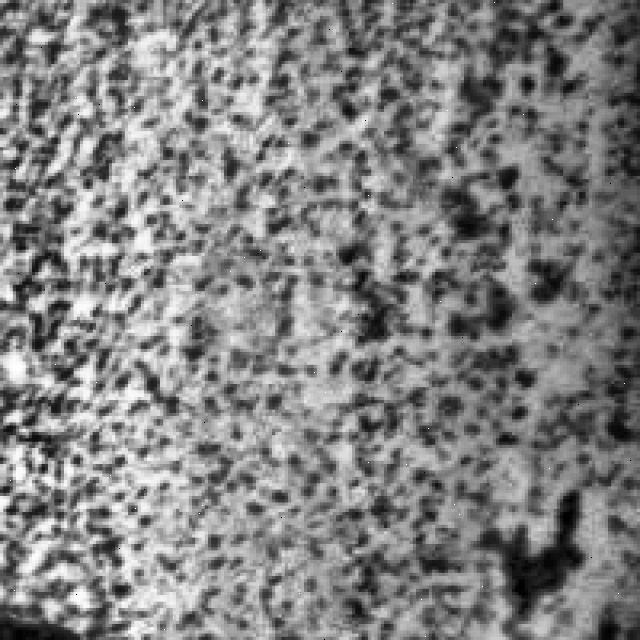Rolled_in_Scale: (73, 3, 618, 611)
